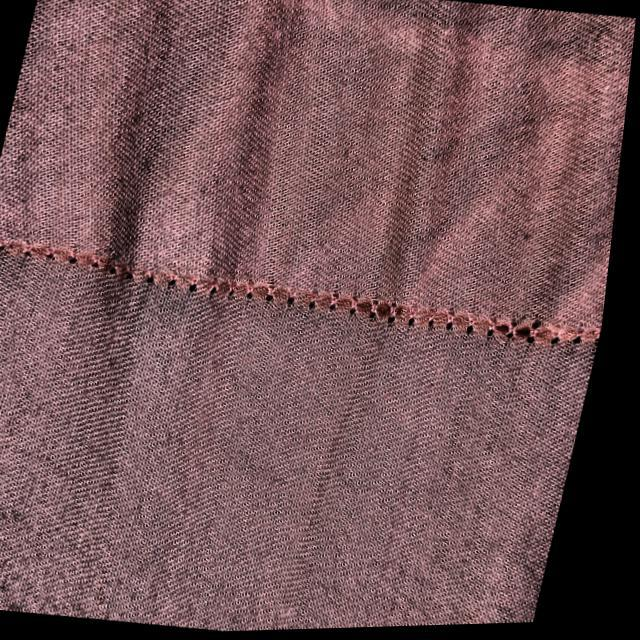seam: (0, 235, 603, 347)
